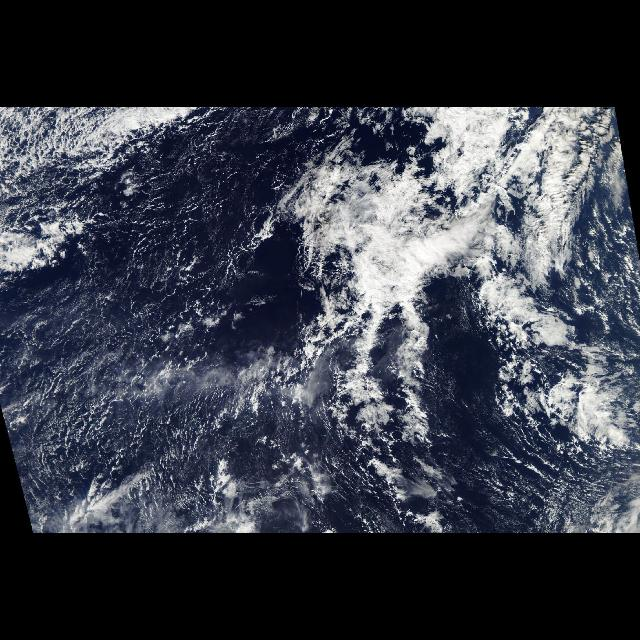Gravel: (12, 107, 234, 449)
Sugar: (9, 276, 209, 497)
